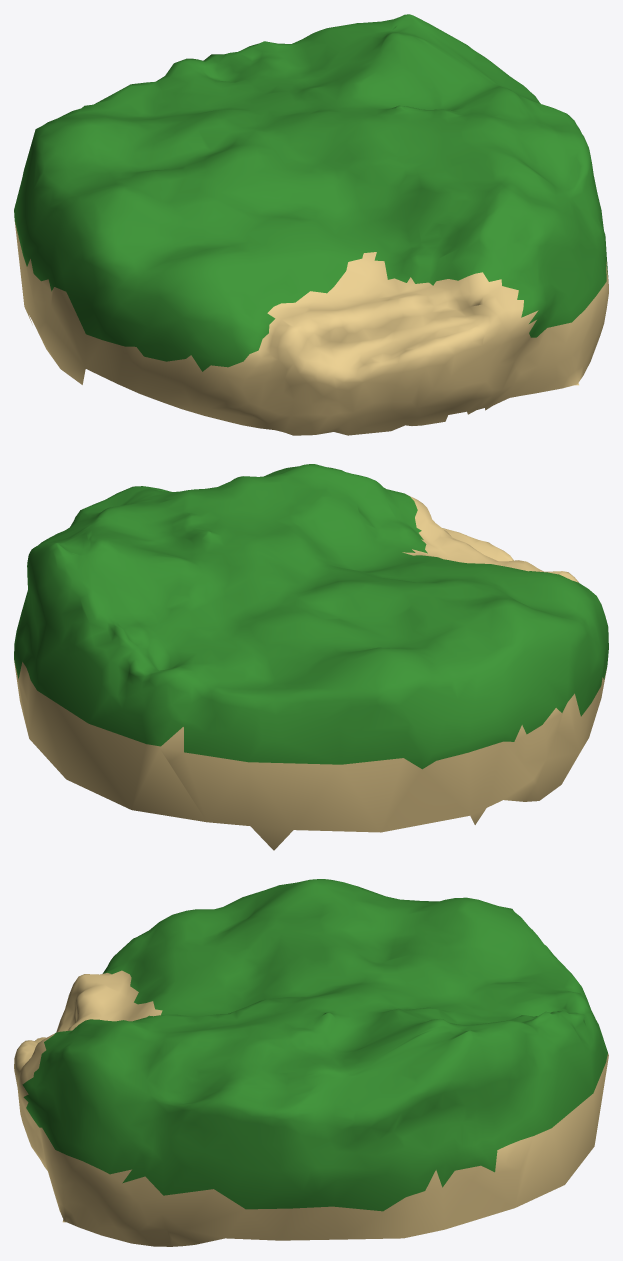
Rendered from Island.fbx.
3 renders of one model, top to bottom at view 1: azimuth 30°, elevation 25°; view 2: azimuth 150°, elevation 25°; view 3: azimuth 270°, elevation 25°, orthographic.
Visible parts, largest first — view 1: Icosphere; view 2: Icosphere; view 3: Icosphere.
Part boxes in pixels (<box>): Icosphere: <box>14,14,608,435</box>; Icosphere: <box>14,464,608,850</box>; Icosphere: <box>14,879,608,1246</box>.
Bounding box in the file's own units: 1974 × 2020 × 778.
